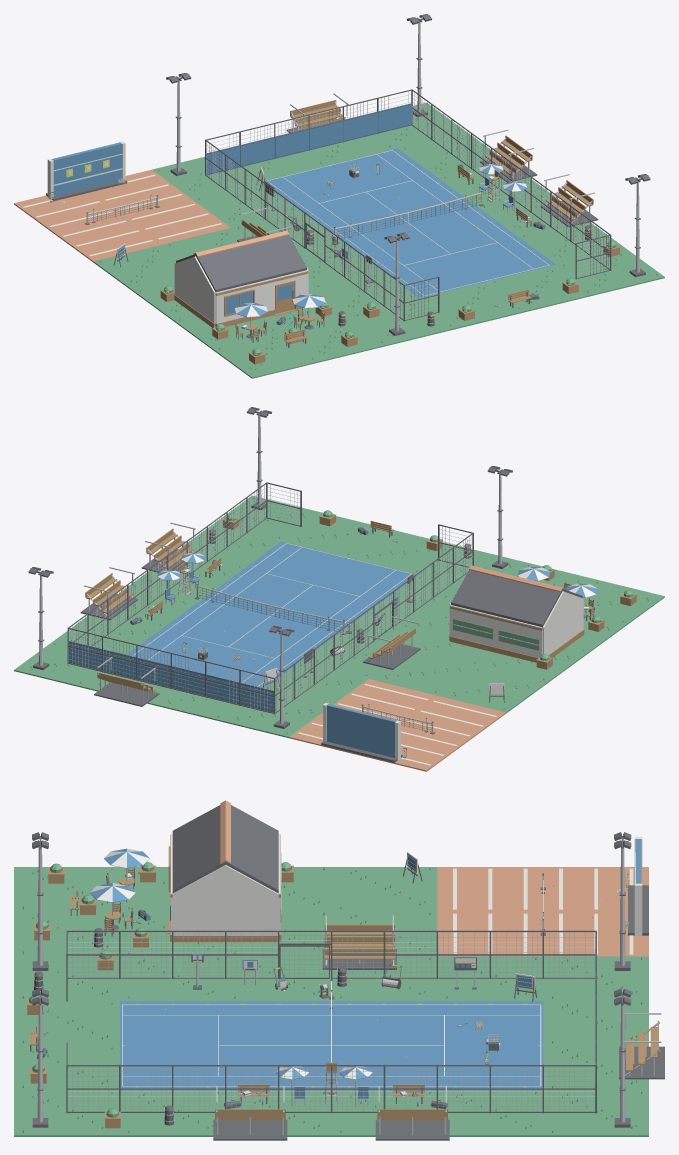
Rendered from tennis-club-and-courts-club-courts-and-t-578520e8-starter-scene__33649.glb.
3 renders of one model, top to bottom at view 1: azimuth 30°, elevation 25°; view 2: azimuth 150°, elevation 25°; view 3: azimuth 270°, elevation 25°, orthographic. The views are drawn at different scales.
Parts seen in each view (by area): view 1: 036-court-line-markings/0, 029-court-surround-tile/0, 011-court-surround-tile/0, 031-court-surface-tile-clay/0, 025-court-surface-tile-clay/0, 023-court-surround-tile/0, 001-court-surround-tile/0, 131-practice-wall/1, 004-court-surround-tile/0, 017-court-surround-tile/0, 026-court-surround-tile/0, 019-court-surround-tile/0 (+36 smaller); view 2: 036-court-line-markings/0, 131-practice-wall/1, 026-court-surround-tile/0, 025-court-surface-tile-clay/0, 011-court-surround-tile/0, 032-court-surround-tile/0, 017-court-surround-tile/0, 001-court-surround-tile/0, 023-court-surround-tile/0, 022-court-surround-tile/0, 031-court-surface-tile-clay/0, 019-court-surround-tile/0 (+34 smaller); view 3: 036-court-line-markings/0, 105-clubhouse-gable-end/0, 026-court-surround-tile/0, 004-court-surround-tile/0, 018-court-surround-tile/0, 019-court-surround-tile/0, 000-court-surround-tile/0, 022-court-surround-tile/0, 023-court-surround-tile/0, 011-court-surround-tile/0, 025-court-surface-tile-clay/0, 006-court-surround-tile/0 (+62 smaller).
Part boxes in pixels (bbox=[...]): 036-court-line-markings/0: bbox=[268, 150, 548, 295]; 029-court-surround-tile/0: bbox=[212, 332, 320, 378]; 011-court-surround-tile/0: bbox=[419, 281, 527, 328]; 031-court-surface-tile-clay/0: bbox=[123, 199, 230, 244]; 025-court-surface-tile-clay/0: bbox=[53, 215, 161, 261]; 023-court-surround-tile/0: bbox=[557, 248, 664, 294]; 001-court-surround-tile/0: bbox=[191, 182, 298, 227]; 131-practice-wall/1: bbox=[51, 142, 121, 196]; 004-court-surround-tile/0: bbox=[311, 269, 417, 314]; 017-court-surround-tile/0: bbox=[488, 264, 596, 311]; 026-court-surround-tile/0: bbox=[93, 244, 181, 291]; 019-court-surround-tile/0: bbox=[398, 131, 499, 177]; 036-court-line-markings/0: bbox=[133, 543, 410, 686]; 131-practice-wall/1: bbox=[326, 704, 396, 757]; 026-court-surround-tile/0: bbox=[437, 666, 545, 713]; 025-court-surface-tile-clay/0: bbox=[401, 696, 505, 742]; 011-court-surround-tile/0: bbox=[350, 530, 457, 574]; 032-court-surround-tile/0: bbox=[369, 652, 476, 695]; 017-court-surround-tile/0: bbox=[281, 512, 386, 557]; 001-court-surround-tile/0: bbox=[264, 662, 367, 706]; 023-court-surround-tile/0: bbox=[213, 495, 320, 541]; 022-court-surround-tile/0: bbox=[179, 524, 280, 570]; 031-court-surface-tile-clay/0: bbox=[333, 679, 436, 721]; 019-court-surround-tile/0: bbox=[54, 615, 161, 654]; 036-court-line-markings/0: bbox=[122, 1005, 540, 1085]; 105-clubhouse-gable-end/0: bbox=[172, 865, 278, 935]; 026-court-surround-tile/0: bbox=[331, 867, 437, 911]; 004-court-surround-tile/0: bbox=[120, 956, 225, 1001]; 018-court-surround-tile/0: bbox=[543, 1090, 648, 1136]; 019-court-surround-tile/0: bbox=[438, 1090, 543, 1136]; 000-court-surround-tile/0: bbox=[543, 956, 648, 1001]; 022-court-surround-tile/0: bbox=[120, 1090, 224, 1136]; 023-court-surround-tile/0: bbox=[14, 1090, 119, 1136]; 011-court-surround-tile/0: bbox=[14, 1001, 119, 1045]; 025-court-surface-tile-clay/0: bbox=[437, 867, 543, 911]; 006-court-surround-tile/0: bbox=[543, 1001, 648, 1045].
Size of the model in its own units: 36.7 by 8.19 by 36.9.
